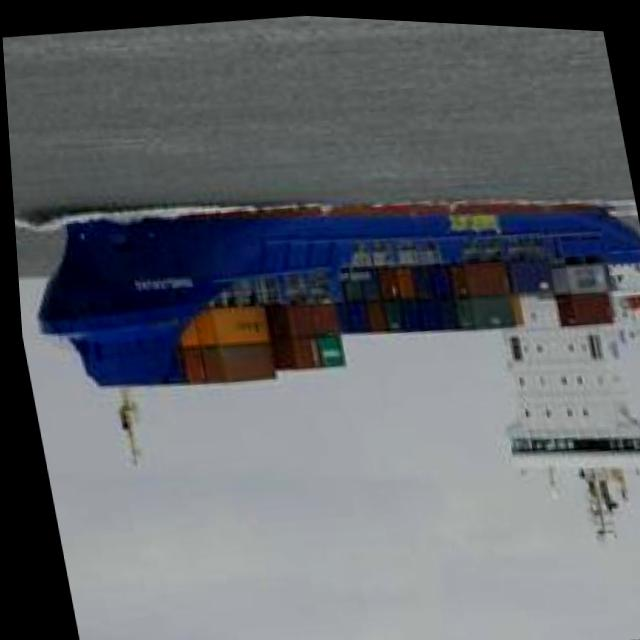ship2: (30, 193, 640, 536)
